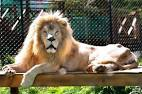lion: (18, 15, 135, 89)
